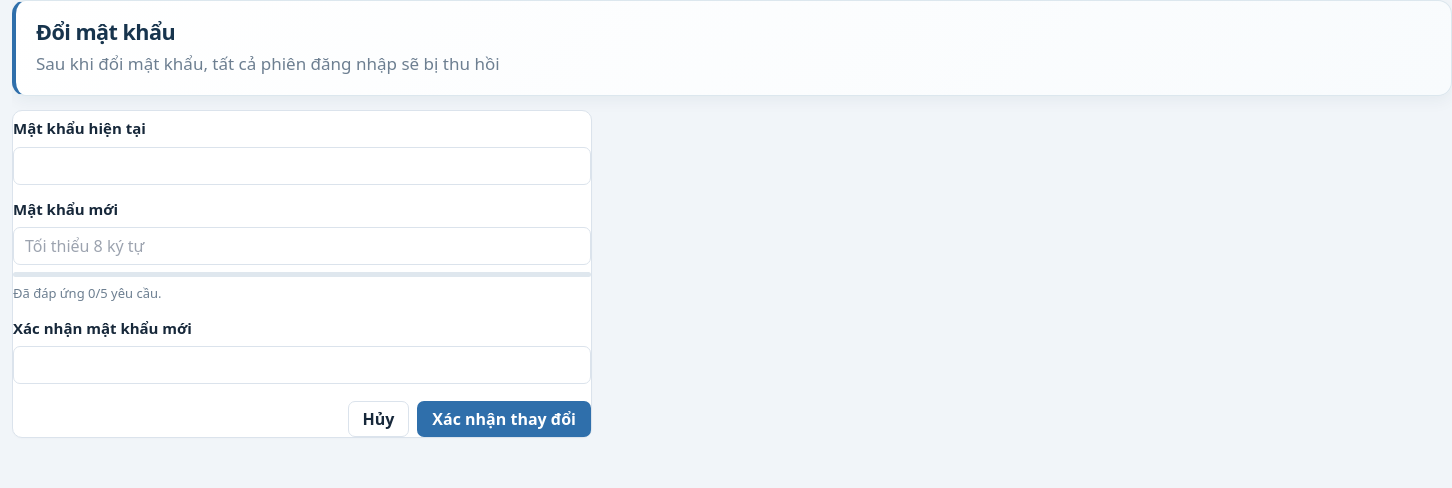
ChangePasswordPage › validates confirmation before submitting
Type "Admin@2026!" into the password field labelled "Mật khẩu hiện tại" at (302, 166), box [13,147,591,185]
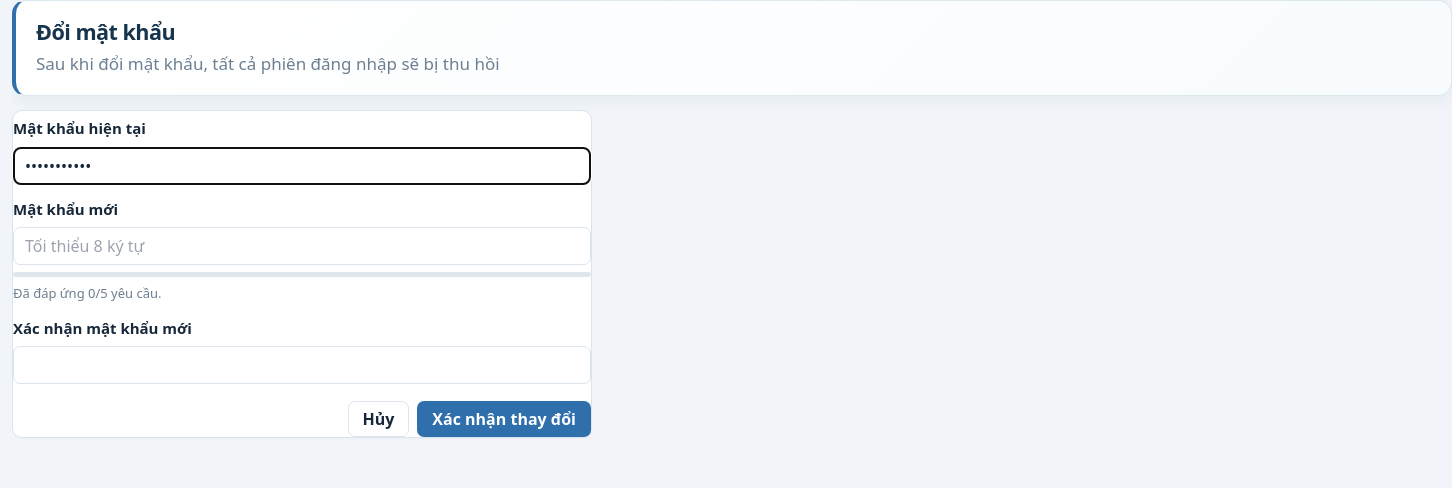
Type "Strong@2027!" into the password field labelled "Mật khẩu mới" at (302, 246), box [13,227,591,265]
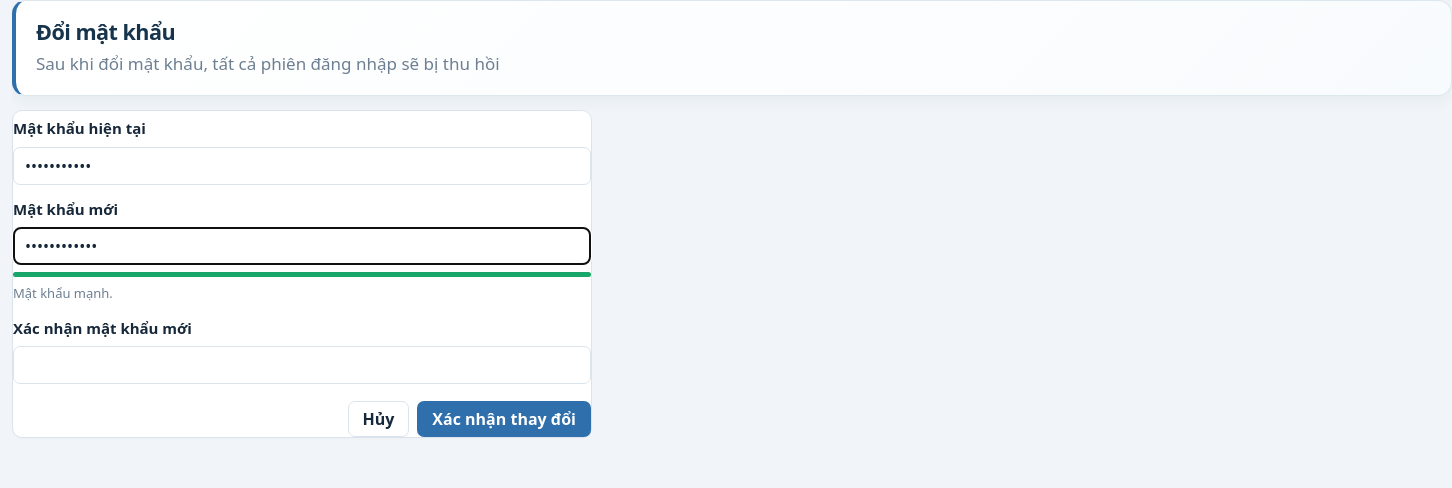
Type "Different@2027!" into the password field labelled "Xác nhận mật khẩu mới" at (302, 365), box [13,346,591,384]
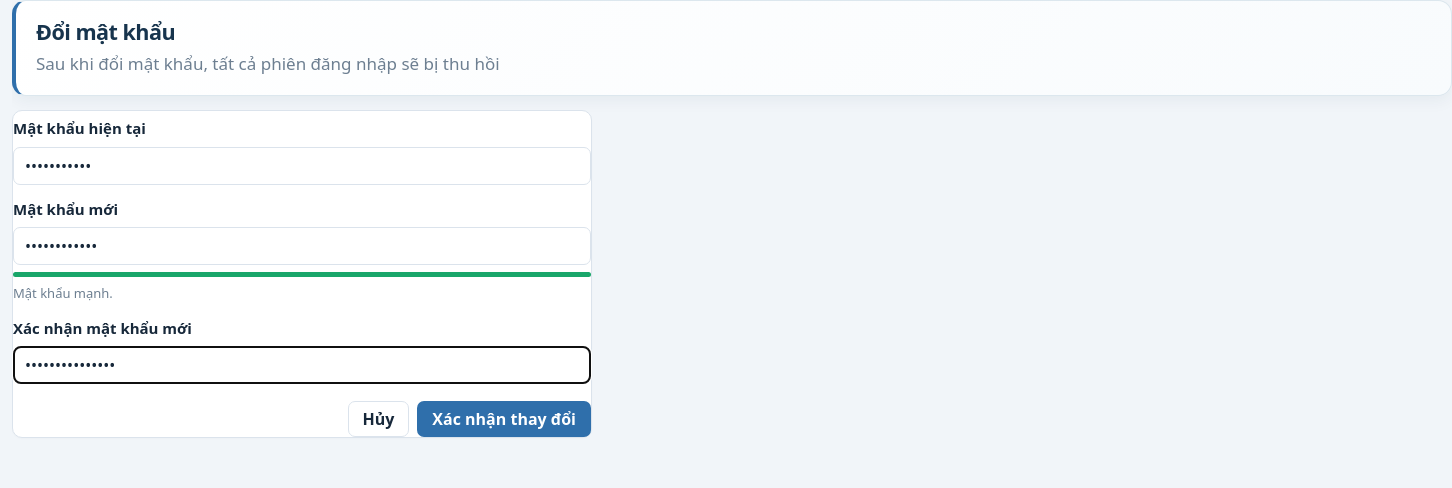
Click the button "Xác nhận thay đổi" at (504, 419), box [417,401,591,437]
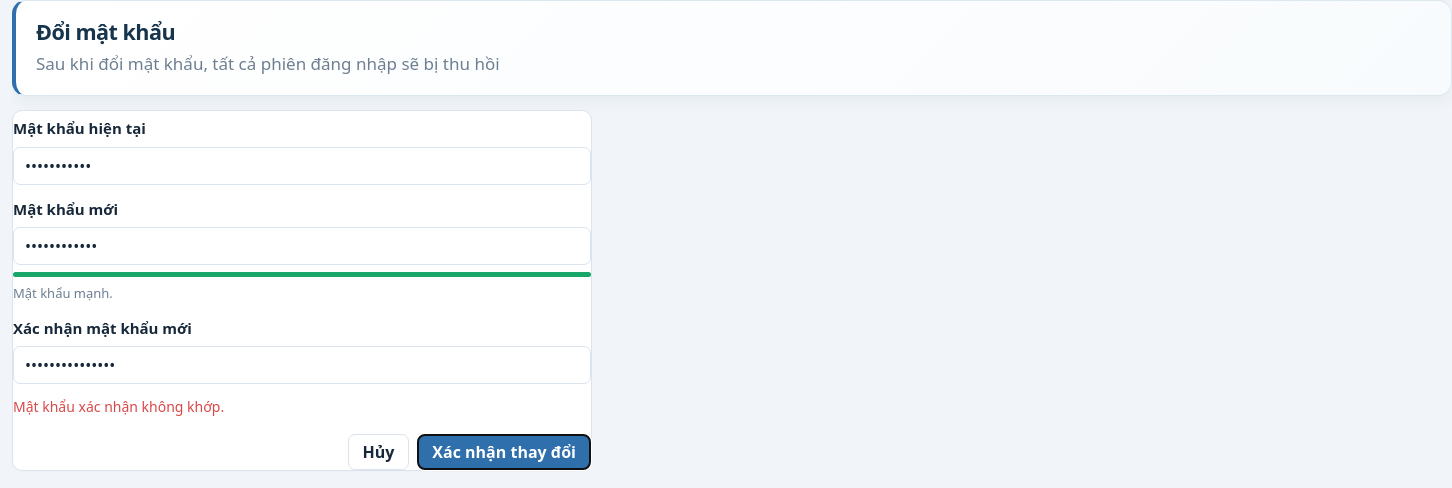
Expected: the message shows "Mật khẩu xác nhận không khớp", [13,397,224,416]
